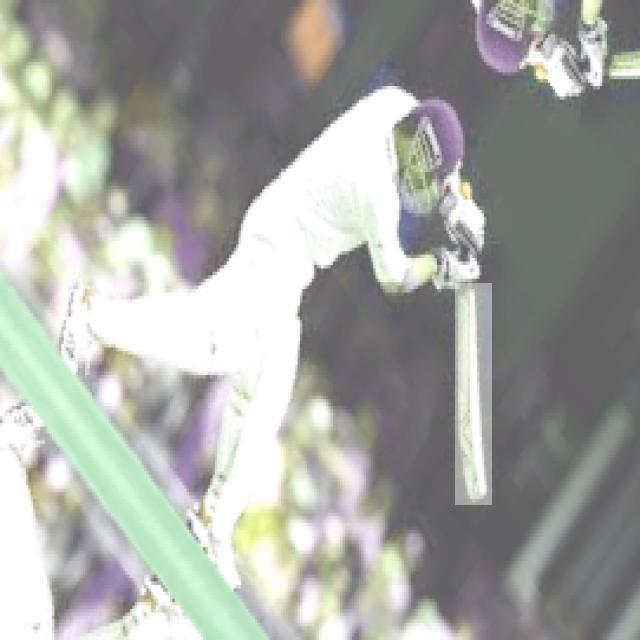bat: (450, 286, 492, 502)
